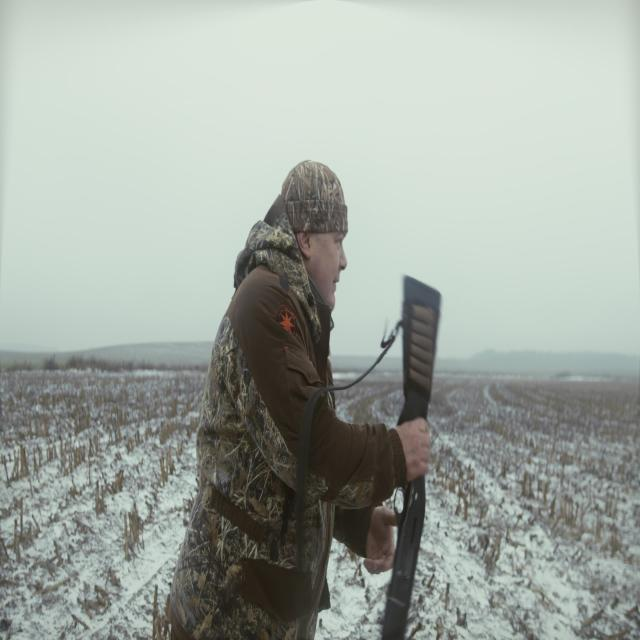poacher: (246, 184, 391, 628)
weapon: (295, 185, 334, 299)
